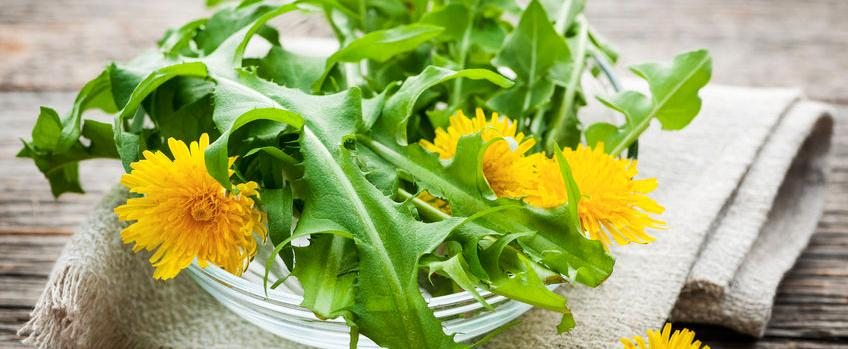dandelion: (125, 158, 261, 271), (540, 133, 648, 232)
